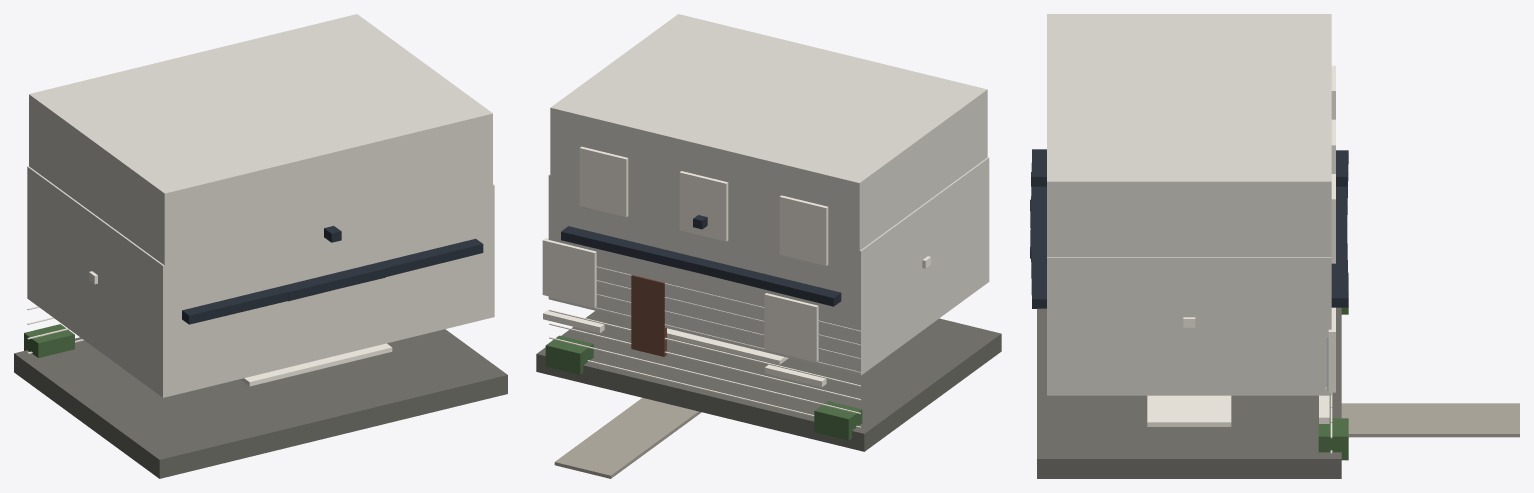
Rendered from white_colonial.glb.
The picture shows the model from 3 angles, left to right: view 1: azimuth 30°, elevation 25°; view 2: azimuth 150°, elevation 25°; view 3: azimuth 270°, elevation 25°; orthographic projection. The views are drawn at different scales.
Parts seen in each view (by area): view 1: white_colonial_upper_story, white_colonial_body, white_colonial_foundation, white_colonial_roof_right, white_colonial_roof_left, white_colonial_porch_floor, white_colonial_foundation_shrub; view 2: white_colonial_upper_story, white_colonial_body, white_colonial_foundation, white_colonial_walkway, white_colonial_window_frame.001, white_colonial_window_frame, white_colonial_upper_window_frame.002, white_colonial_upper_window_frame, white_colonial_upper_window_frame.001, white_colonial_front_door, white_colonial_roof_right, white_colonial_roof_left (+9 smaller); view 3: white_colonial_upper_story, white_colonial_body, white_colonial_foundation, white_colonial_walkway, white_colonial_roof_right, white_colonial_porch_floor, white_colonial_roof_left, white_colonial_foundation_shrub.001, white_colonial_window_frame.001.
Part boxes in pixels (x1,y1,x2,y2): white_colonial_upper_story: (29, 14, 492, 285); white_colonial_body: (27, 166, 494, 397); white_colonial_foundation: (14, 329, 507, 478); white_colonial_roof_right: (280, 238, 483, 301); white_colonial_roof_left: (182, 262, 385, 324); white_colonial_porch_floor: (240, 343, 392, 386); white_colonial_foundation_shrub: (24, 324, 74, 357); white_colonial_upper_story: (550, 14, 987, 269); white_colonial_body: (548, 157, 989, 375); white_colonial_foundation: (536, 311, 1001, 451); white_colonial_walkway: (554, 398, 701, 478); white_colonial_window_frame.001: (542, 238, 596, 307); white_colonial_window_frame: (764, 293, 818, 361); white_colonial_upper_window_frame.002: (579, 146, 628, 217); white_colonial_upper_window_frame: (779, 195, 828, 265); white_colonial_upper_window_frame.001: (679, 171, 728, 241); white_colonial_front_door: (631, 275, 666, 356); white_colonial_roof_right: (561, 226, 752, 275); white_colonial_roof_left: (698, 264, 841, 306); white_colonial_upper_story: (1047, 14, 1331, 256); white_colonial_body: (1047, 257, 1331, 395); white_colonial_foundation: (1037, 307, 1341, 478); white_colonial_walkway: (1341, 403, 1519, 437); white_colonial_roof_right: (1030, 198, 1348, 308); white_colonial_porch_floor: (1147, 395, 1231, 426); white_colonial_roof_left: (1030, 149, 1348, 258); white_colonial_foundation_shrub.001: (1318, 418, 1348, 460); white_colonial_window_frame.001: (1328, 307, 1335, 392).
Size of the model in its own units: 10.5 by 8.38 by 12.22.
